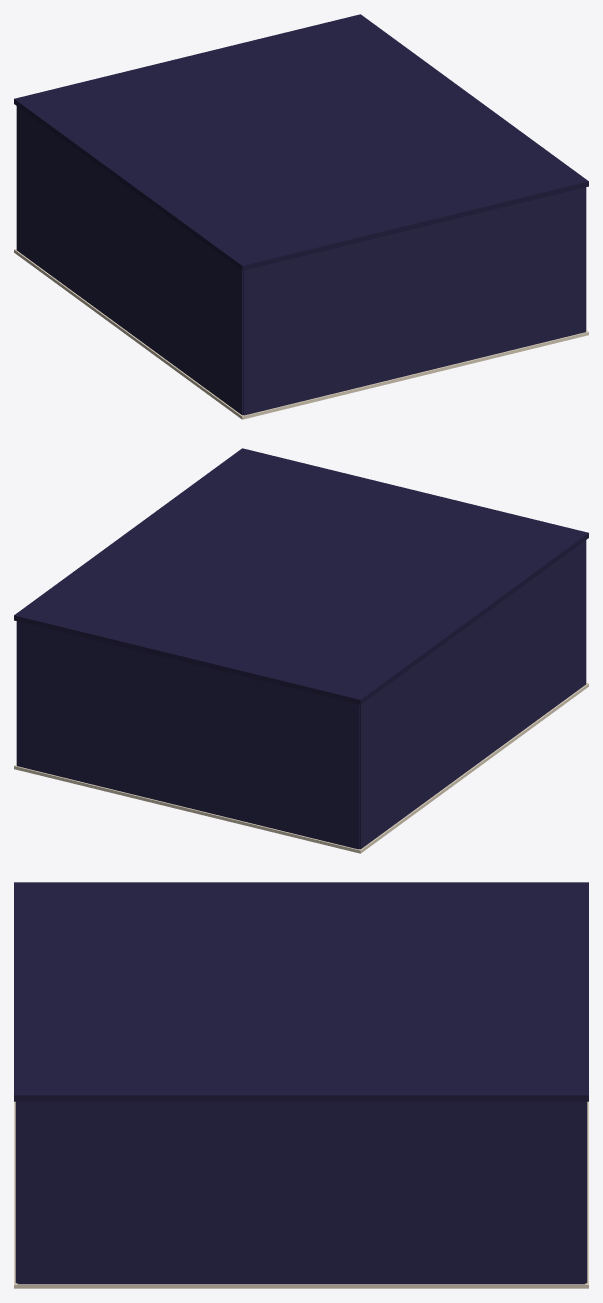
File: arcade-interior.glb
The picture shows the model from 3 angles, top to bottom: view 1: azimuth 30°, elevation 25°; view 2: azimuth 150°, elevation 25°; view 3: azimuth 270°, elevation 25°; orthographic projection. The views are drawn at different scales.
Parts seen in each view (by area): view 1: Arcade_Cab_Black, Arcade_Slate_Dark.001, Arcade_Carpet; view 2: Arcade_Cab_Black, Arcade_Slate_Dark.001, Arcade_Carpet; view 3: Arcade_Slate_Dark.001, Arcade_Cab_Black, Arcade_Carpet.
Boxes of the visible parts, x1,y1,x2,y2 form: Arcade_Cab_Black: (16, 106, 586, 415); Arcade_Slate_Dark.001: (14, 14, 588, 270); Arcade_Carpet: (14, 249, 588, 419); Arcade_Cab_Black: (16, 540, 586, 849); Arcade_Slate_Dark.001: (14, 448, 588, 704); Arcade_Carpet: (14, 683, 588, 853); Arcade_Slate_Dark.001: (14, 882, 588, 1101); Arcade_Cab_Black: (15, 1101, 587, 1284); Arcade_Carpet: (14, 1101, 588, 1288).
Bounding box in the file's own units: 28.4 × 12.04 × 32.4.
